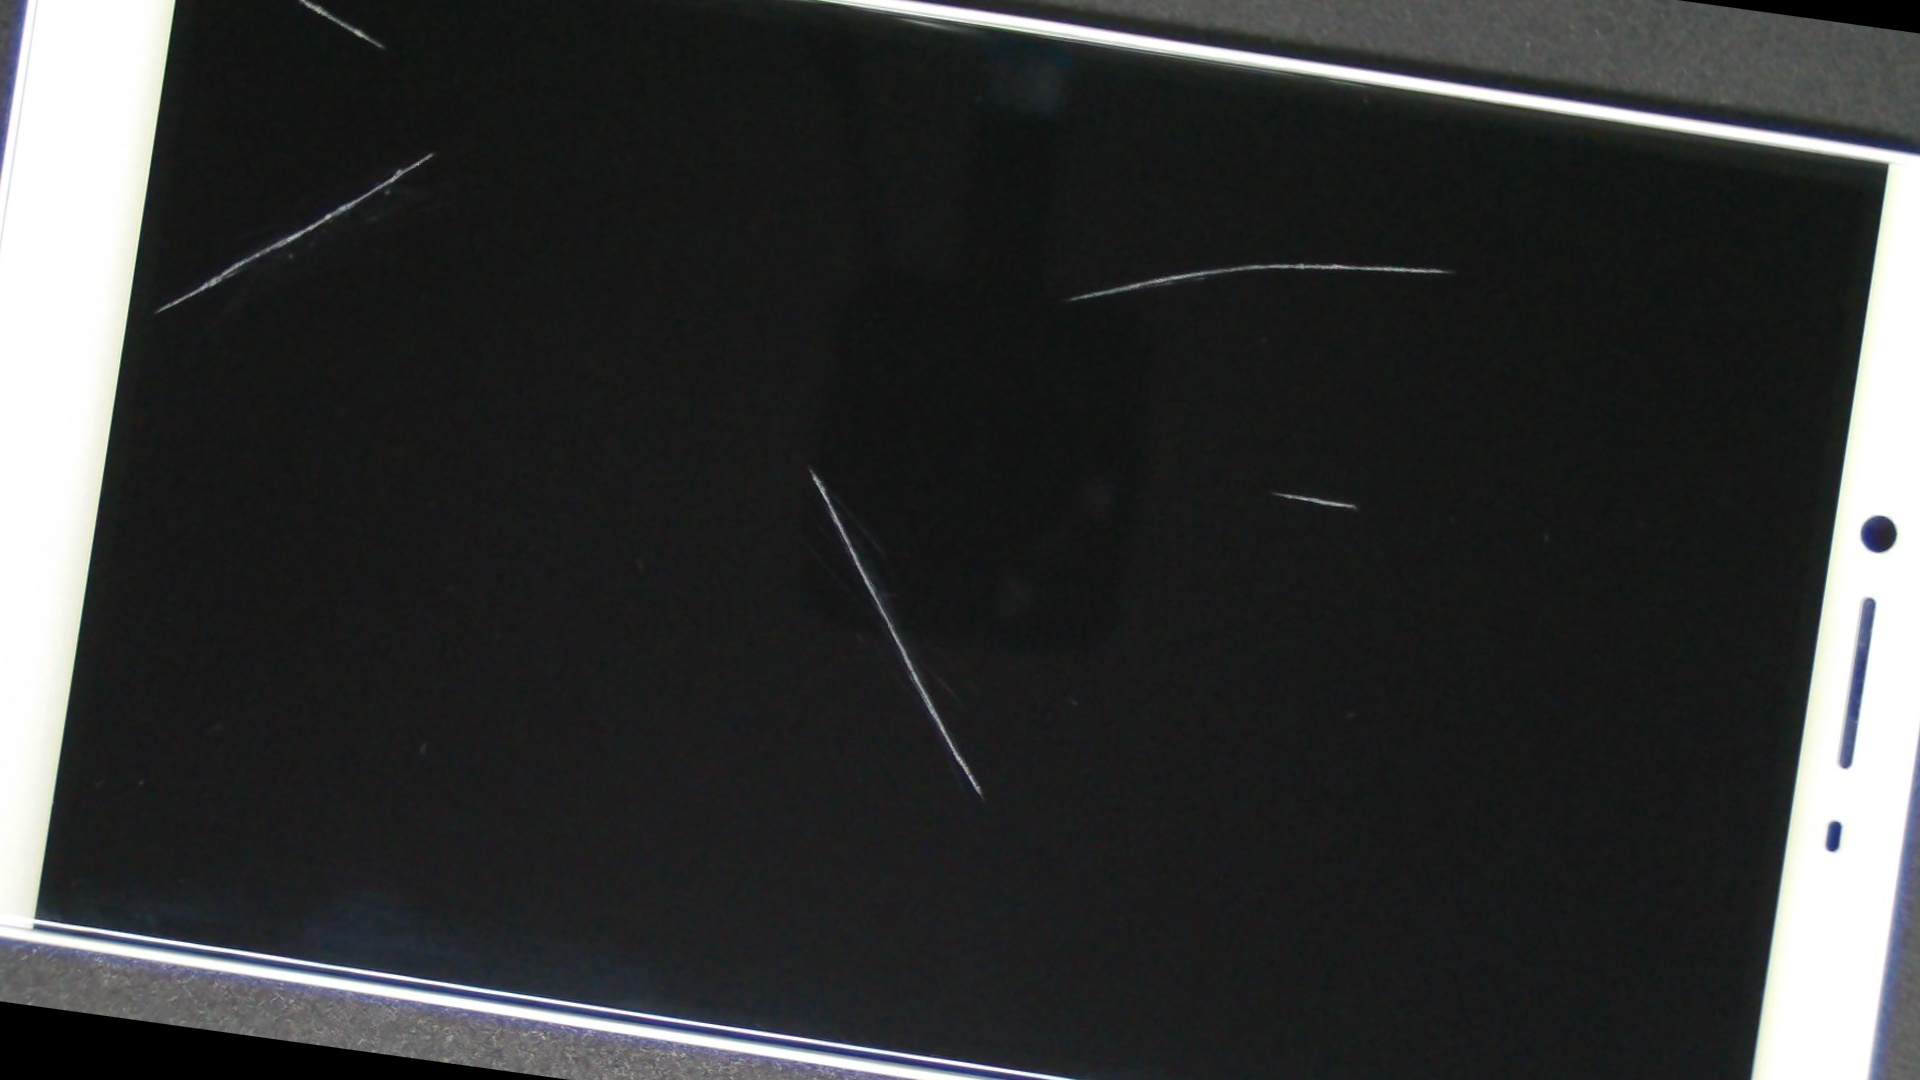oil: (580, 131, 1920, 857), (326, 116, 1290, 815), (678, 18, 1920, 500), (175, 0, 686, 344)
